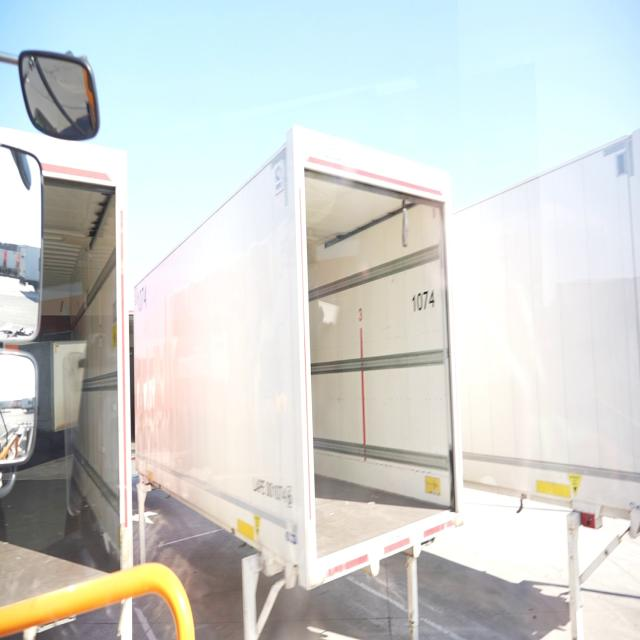Code: (404, 282, 441, 312)
